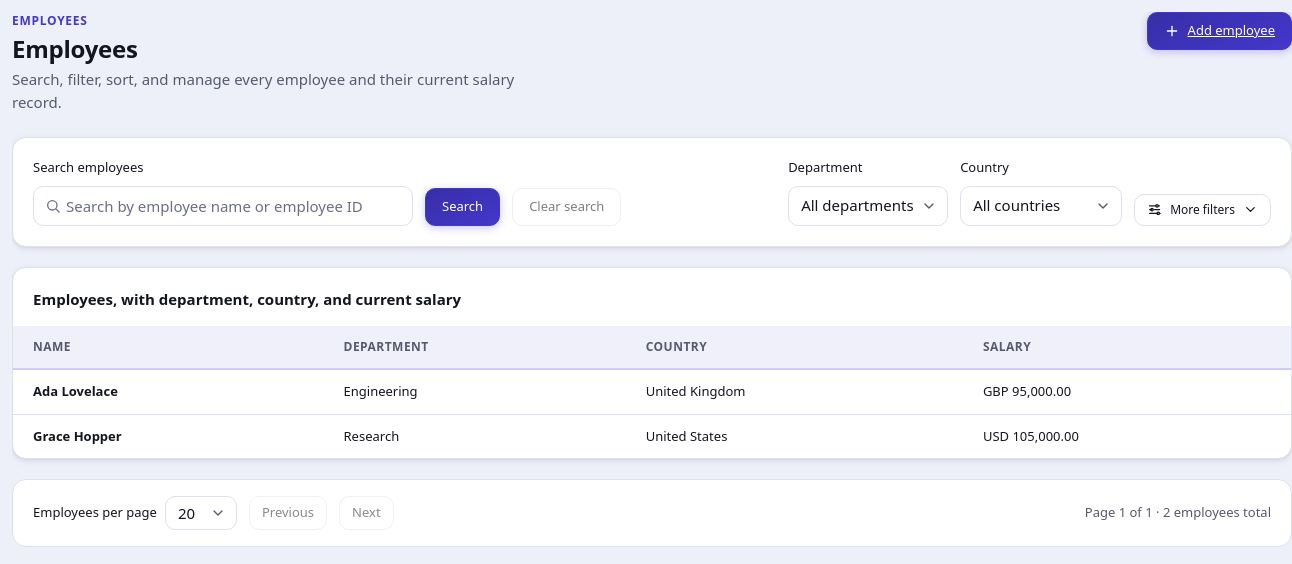
Test: EmployeeListPage › filters by department only and sends the correct query parameter
This screenshot has width=1292, height=564.
Expected: the link "Grace Hopper" is shown, [33,426,122,444]
Select "Engineering" in the dropdown labelled "Department" at [868, 206], box [788,186,948,226]
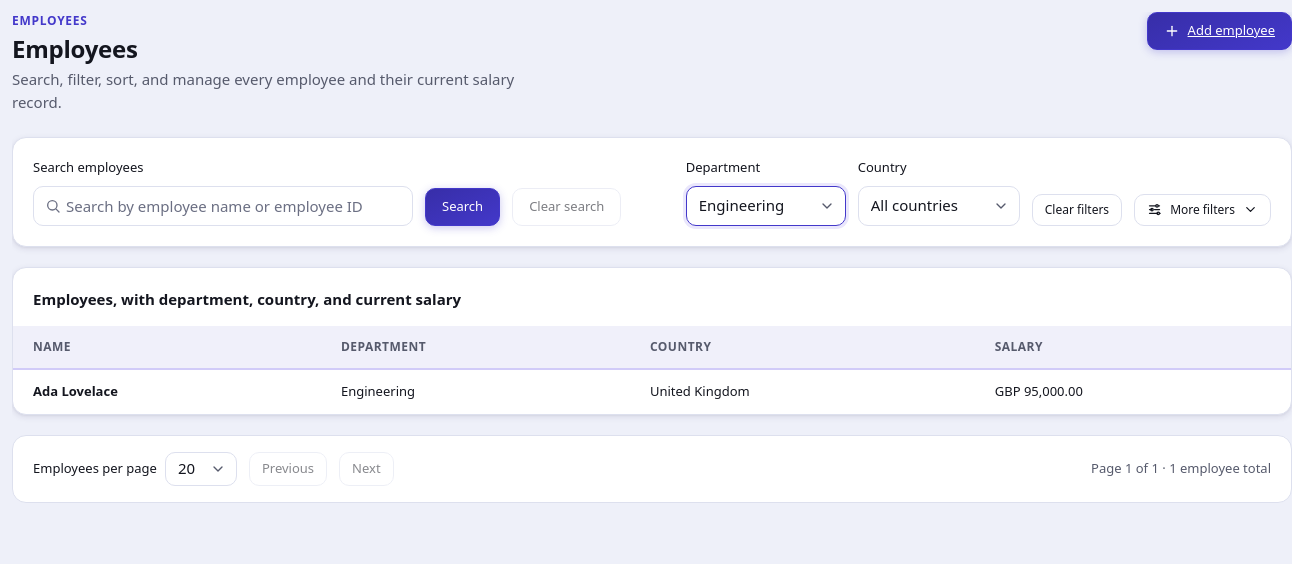
Expected: the link "Ada Lovelace" is shown, [33,382,118,400]
Expected: the link "Grace Hopper" is gone
